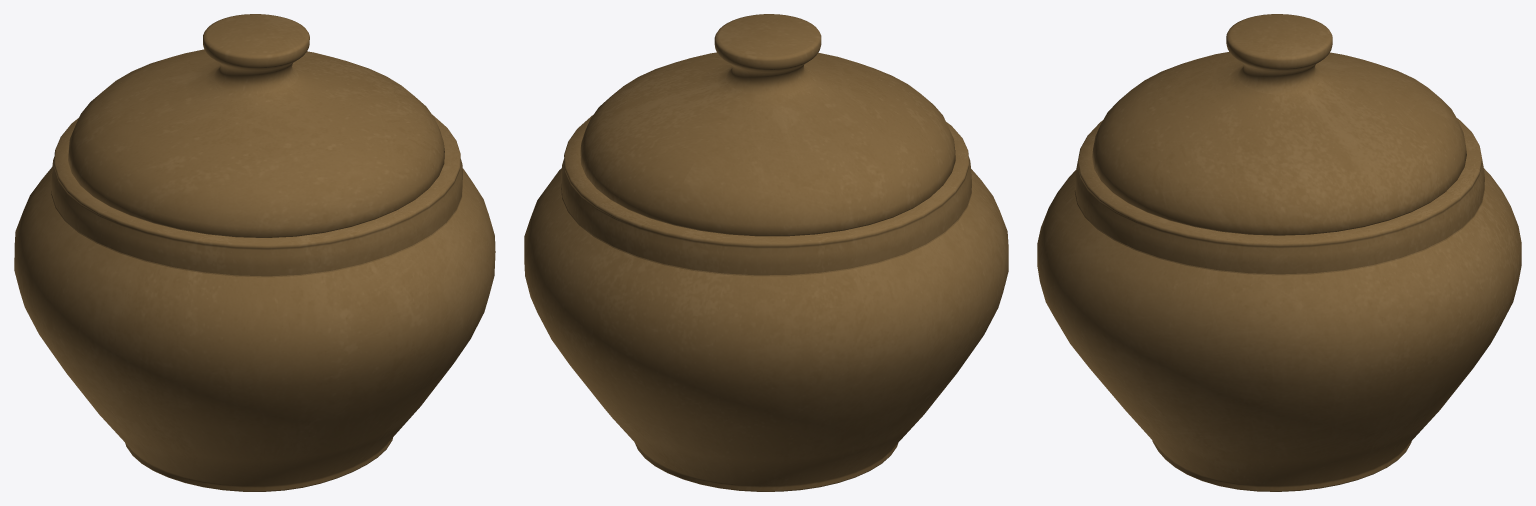
File: taoguan.fbx
The picture shows the model from 3 angles, left to right: view 1: azimuth 30°, elevation 25°; view 2: azimuth 150°, elevation 25°; view 3: azimuth 270°, elevation 25°; orthographic projection.
Visible parts, largest first — view 1: polySurface1; view 2: polySurface1; view 3: polySurface1.
Boxes of the visible parts, x1,y1,x2,y2 form: polySurface1: (14, 14, 495, 491); polySurface1: (524, 14, 1008, 491); polySurface1: (1037, 14, 1521, 491).
Size of the model in its own units: 19.18 by 17.67 by 19.32.
Materials: 1 (1 with a texture image).
